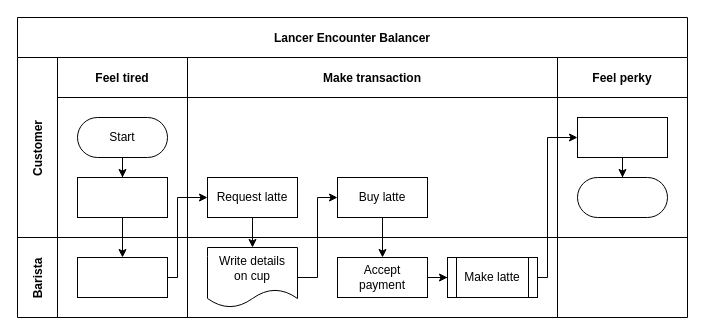
The diagram is 705 pixels wide and 335 high, and some of its shapes have lost their labels. Here are the shapes that lost their labels. From the top down, the centre of each, then its label:
point (622, 137): Drink latte
point (122, 197): Find barista
point (622, 197): End
point (122, 277): Greet customer
